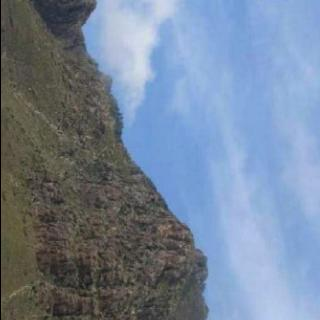Cirrostratus: (82, 0, 320, 320)
